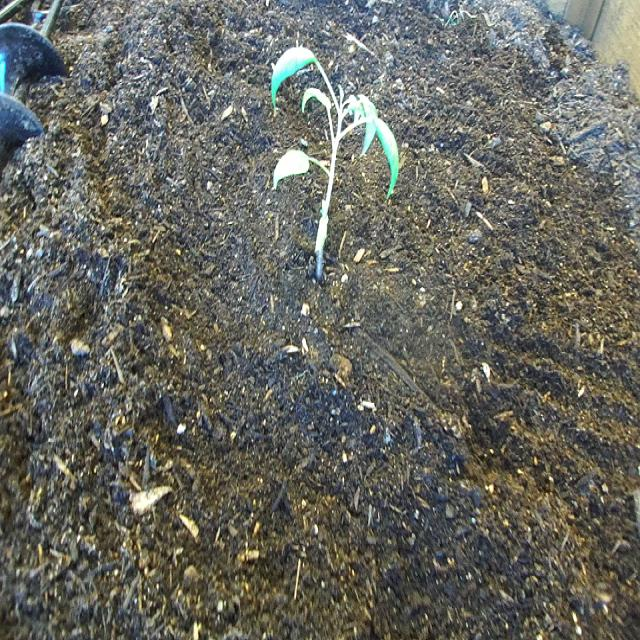Healthy: (271, 42, 404, 287)
